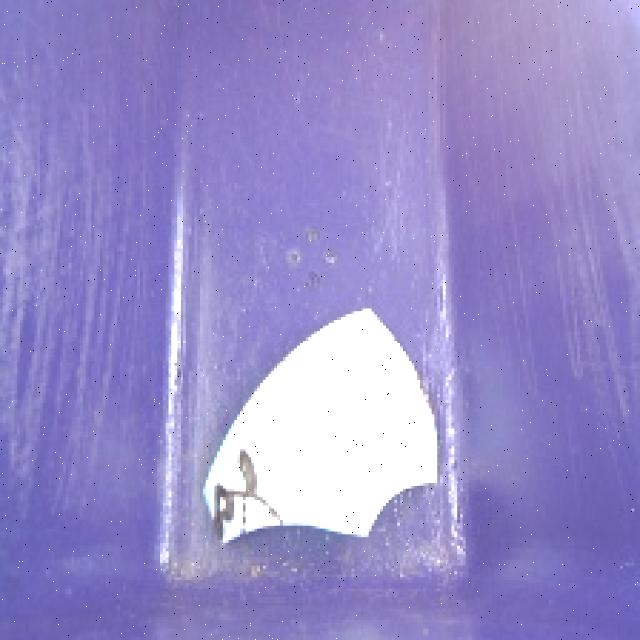china: (199, 297, 454, 556)
